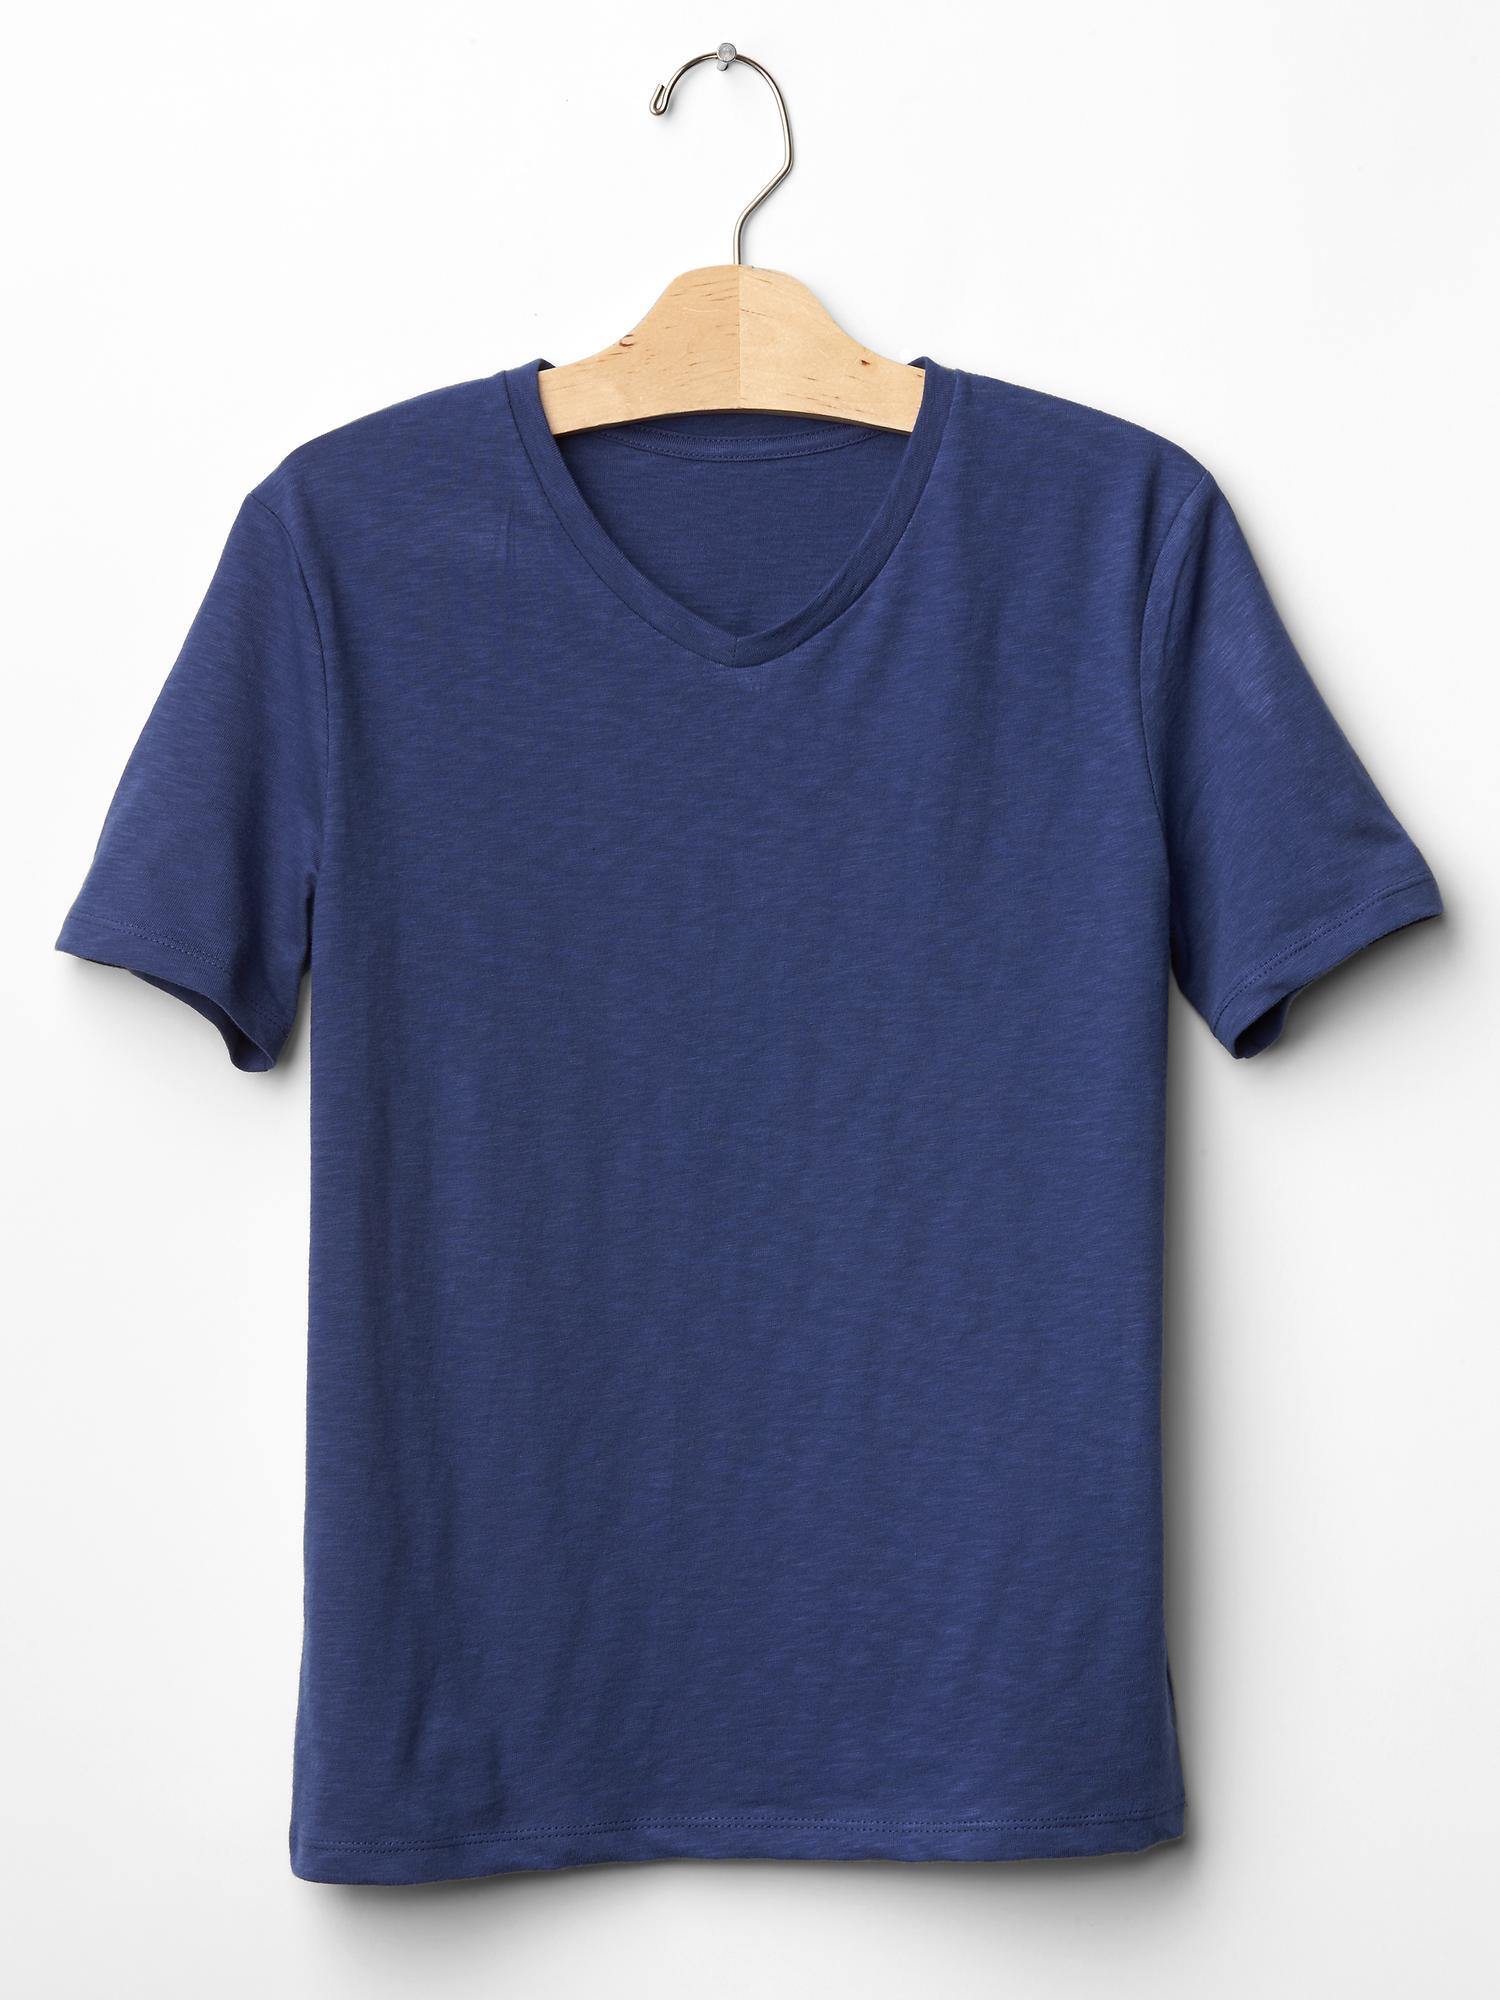flexible: (46, 343, 1454, 1882)
